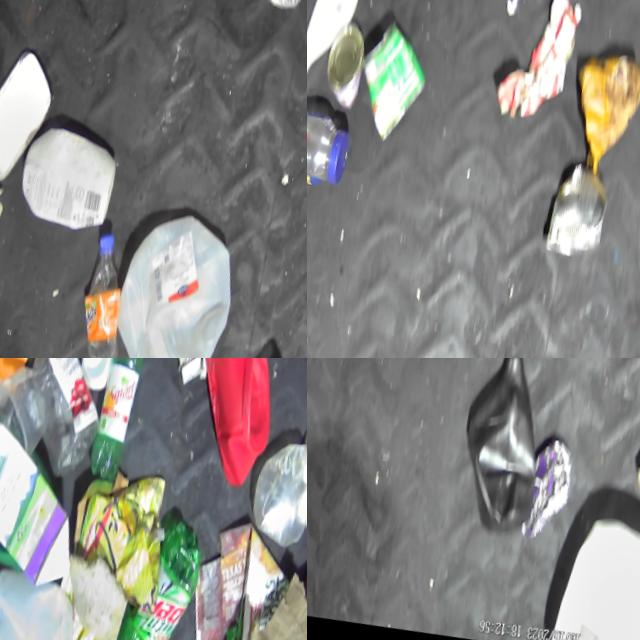can: (342, 16, 437, 153), (532, 163, 610, 270), (312, 19, 371, 116)
milk_jug: (83, 199, 243, 358), (530, 508, 640, 640)
non_white_jug: (432, 358, 560, 548)
plastic_bottle: (56, 227, 139, 358), (307, 93, 353, 196)
